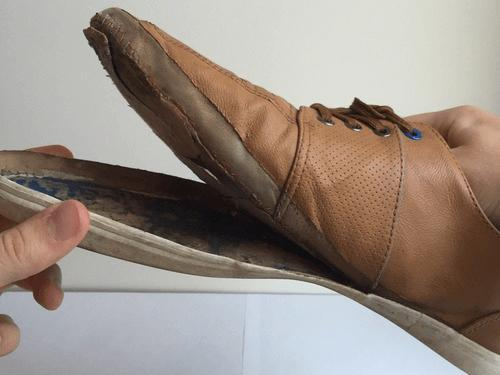bonding: (0, 9, 375, 295)
